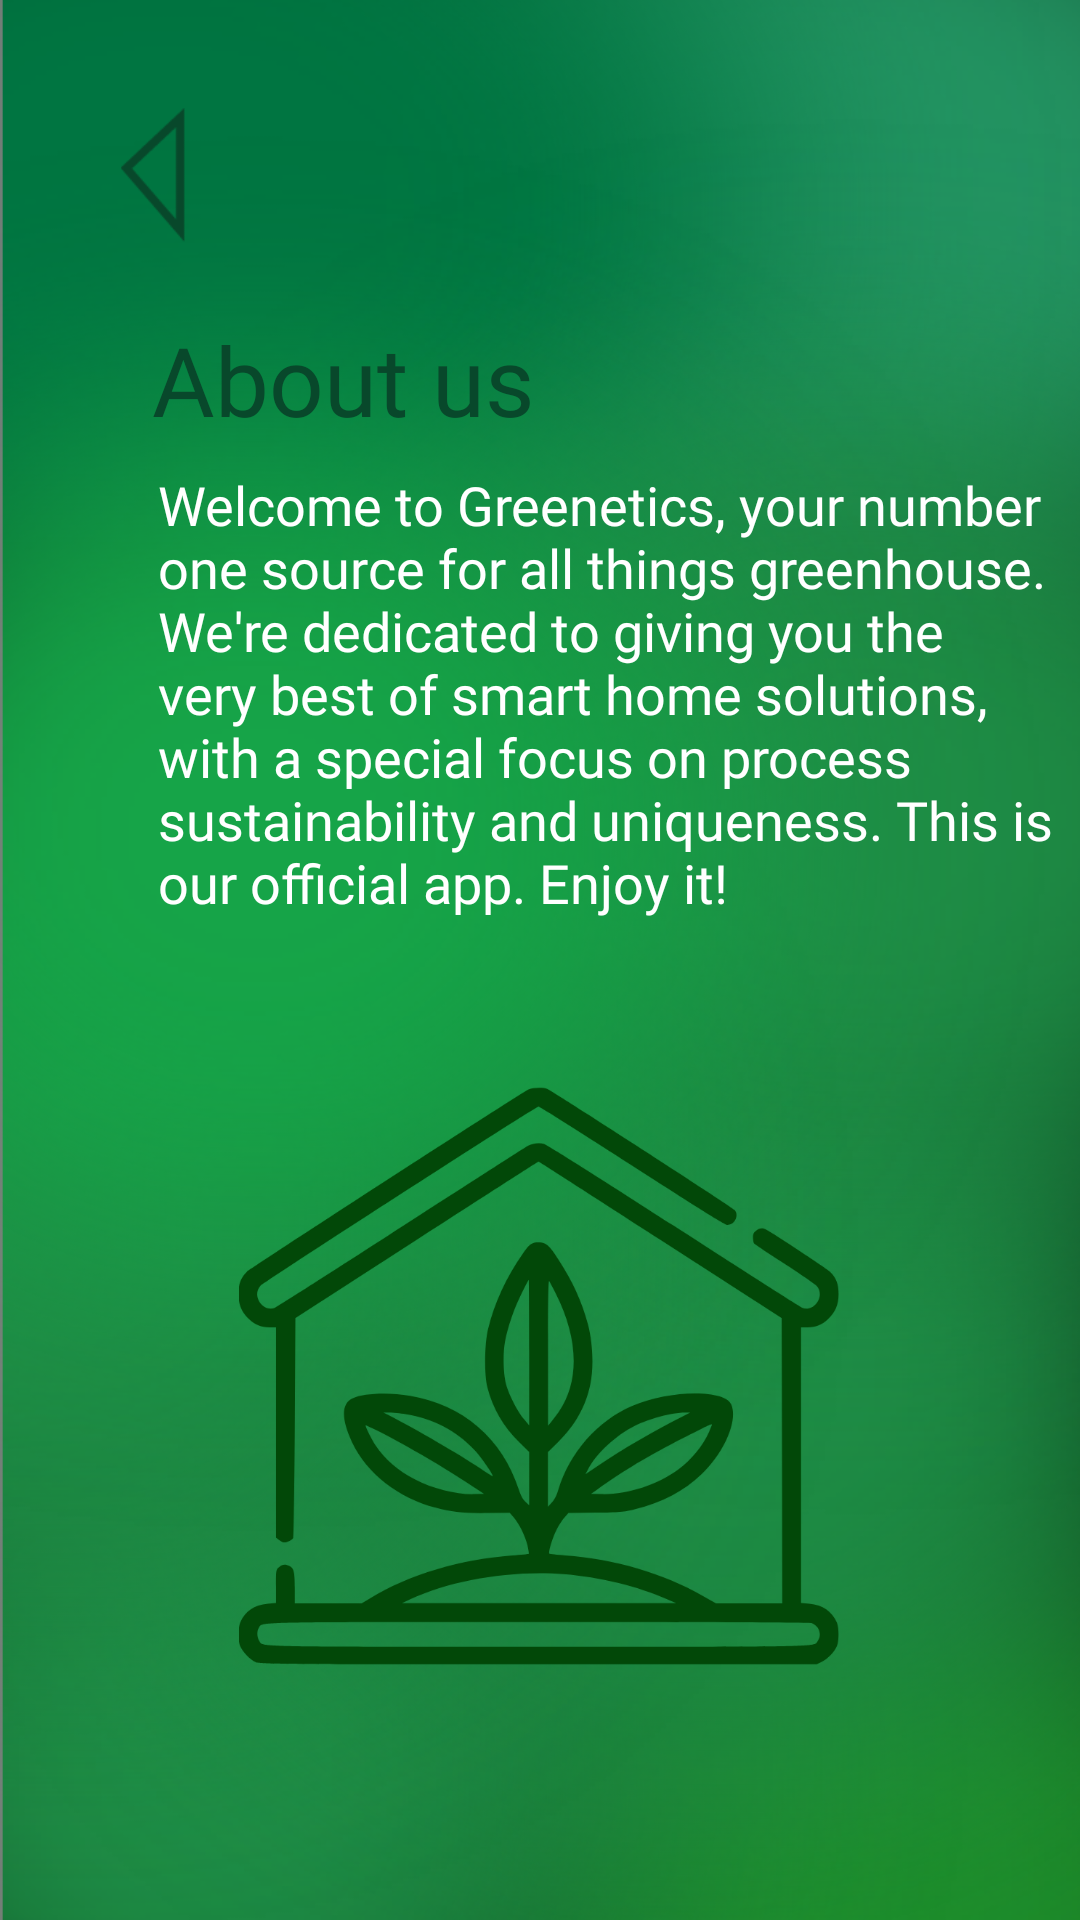

Named icons in this screenshot (1080 x 1920) and their bounding boxes, (left=x1, top=y1, right=x2, bottom=y2):
back: (left=121, top=109, right=184, bottom=240)
